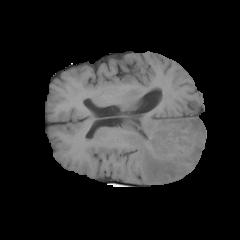glioma: (132, 113, 204, 182)
